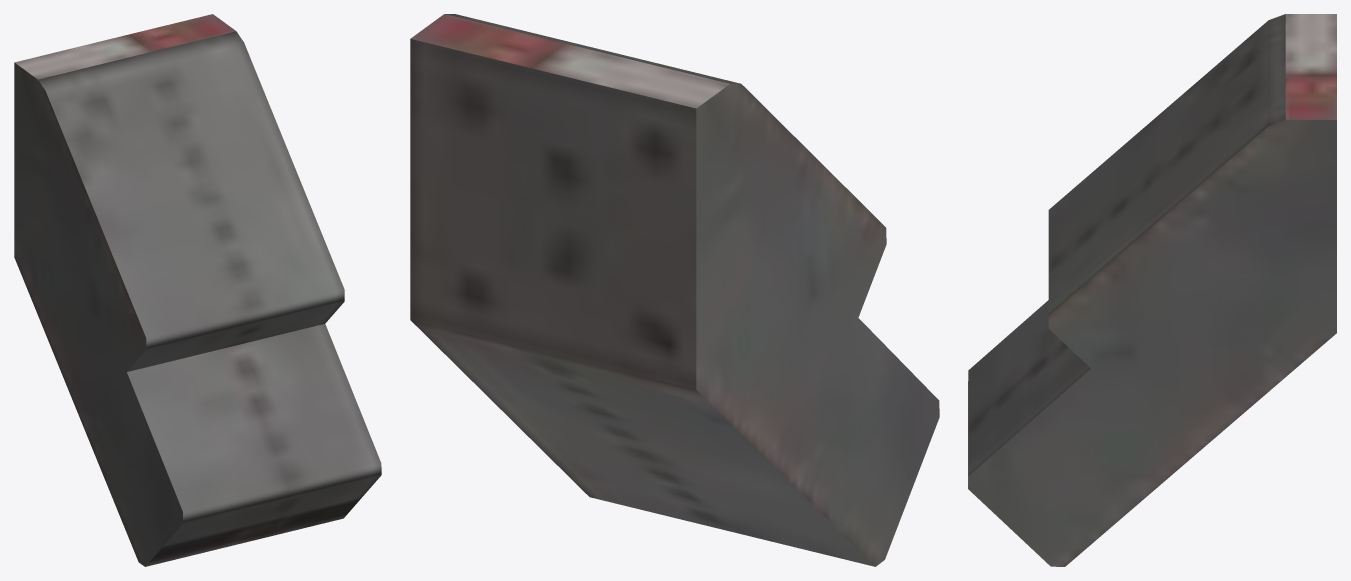
The model's file is roof.spacestation.top.line.end.left.glb.
The picture shows the model from 3 angles, left to right: view 1: azimuth 30°, elevation 25°; view 2: azimuth 150°, elevation 25°; view 3: azimuth 270°, elevation 25°; orthographic projection. The views are drawn at different scales.
Parts seen in each view (by area): view 1: roof.spacestation.top.line.end.left; view 2: roof.spacestation.top.line.end.left; view 3: roof.spacestation.top.line.end.left.
Boxes of the visible parts, x1=… form: roof.spacestation.top.line.end.left: x1=14, y1=14, x2=381, y2=566; roof.spacestation.top.line.end.left: x1=410, y1=14, x2=939, y2=566; roof.spacestation.top.line.end.left: x1=968, y1=14, x2=1336, y2=566.
Size of the model in its own units: 0.25 by 0.4923 by 0.368.
Materials: 1 (1 with a texture image).
